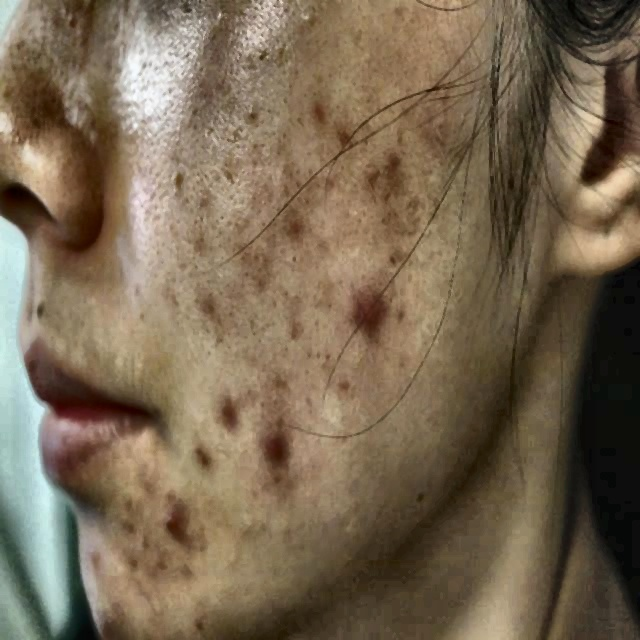pustule: (342, 281, 396, 355), (307, 96, 355, 160), (154, 493, 206, 545), (213, 387, 254, 443), (274, 200, 314, 256), (367, 131, 406, 188), (260, 420, 300, 464), (182, 428, 222, 465)
